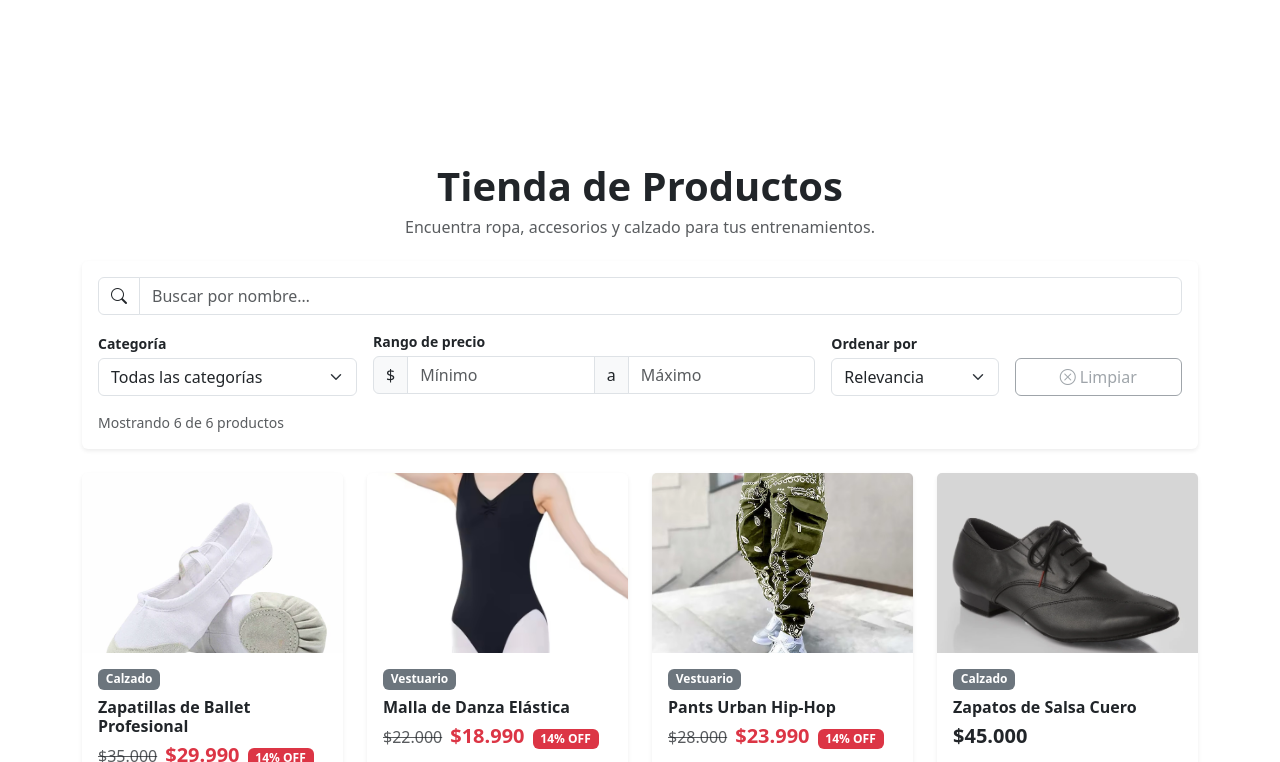
Test case: pages/ProductosPage (filtros de búsqueda) › busca por nombre sin distinguir mayúsculas ni tildes
The width and height of the screenshot is (1280, 762).
Type "ELASTICA" into the search field labelled "Buscar por nombre" at (660, 296), box [139,277,1182,315]
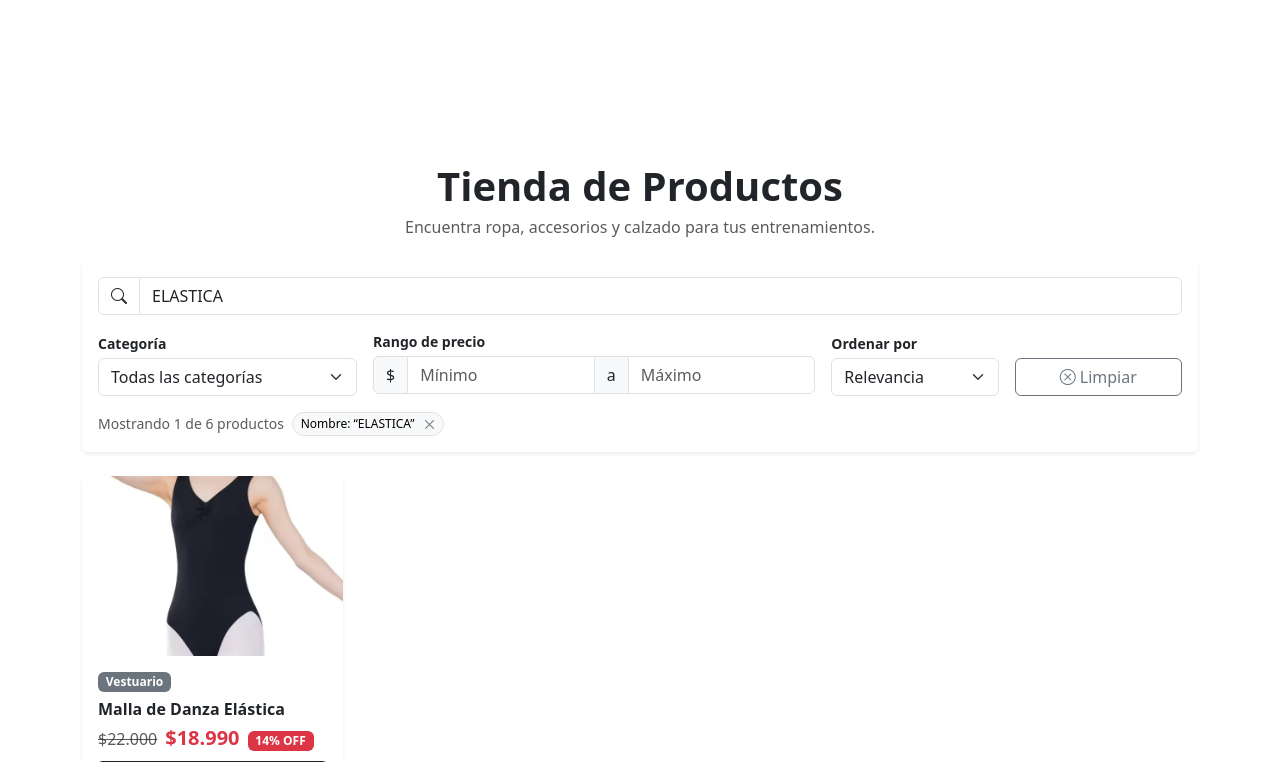
Check: the heading "Malla de Danza Elástica" is shown, box [98,698,285,720]
Check: the text "Mostrando 1 de 6 productos" is shown, box [98,414,284,434]
